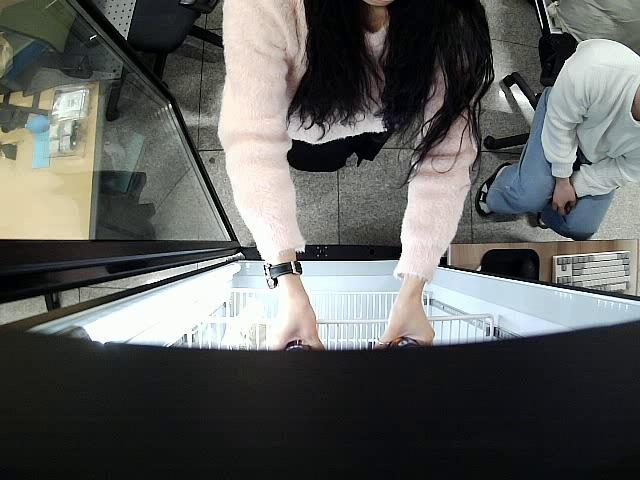16_hot6: (388, 336, 422, 349), (283, 341, 312, 353)
